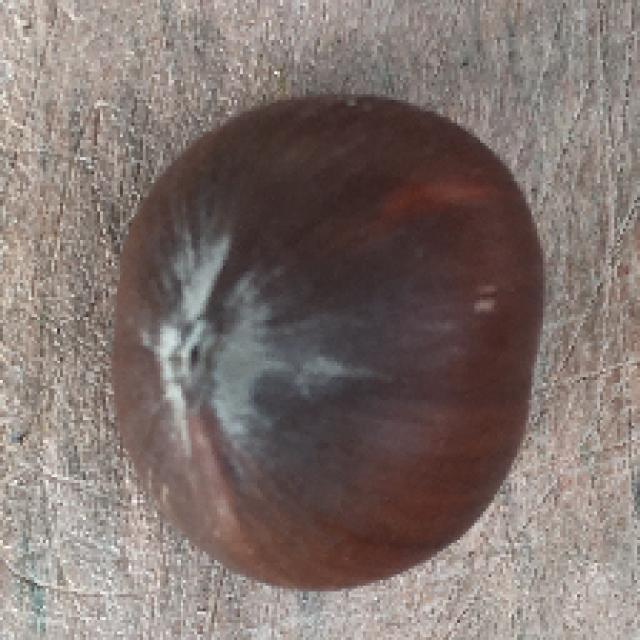DamagedHazelnut: (110, 92, 552, 598)
